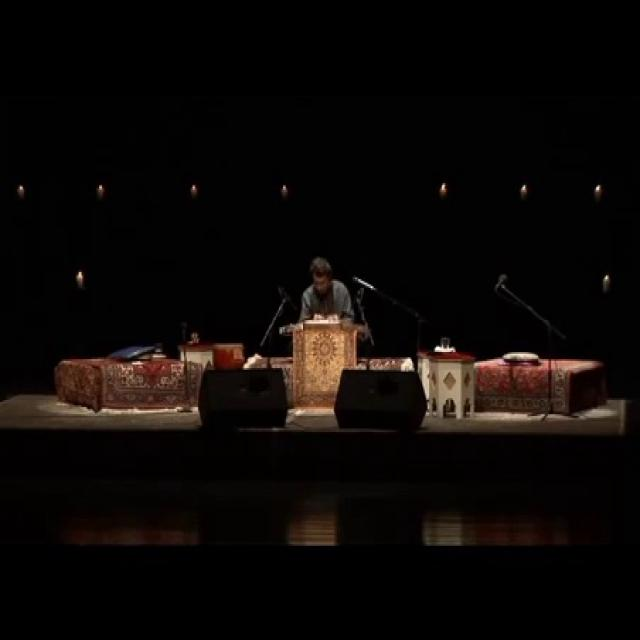Santur: (278, 314, 370, 340)
